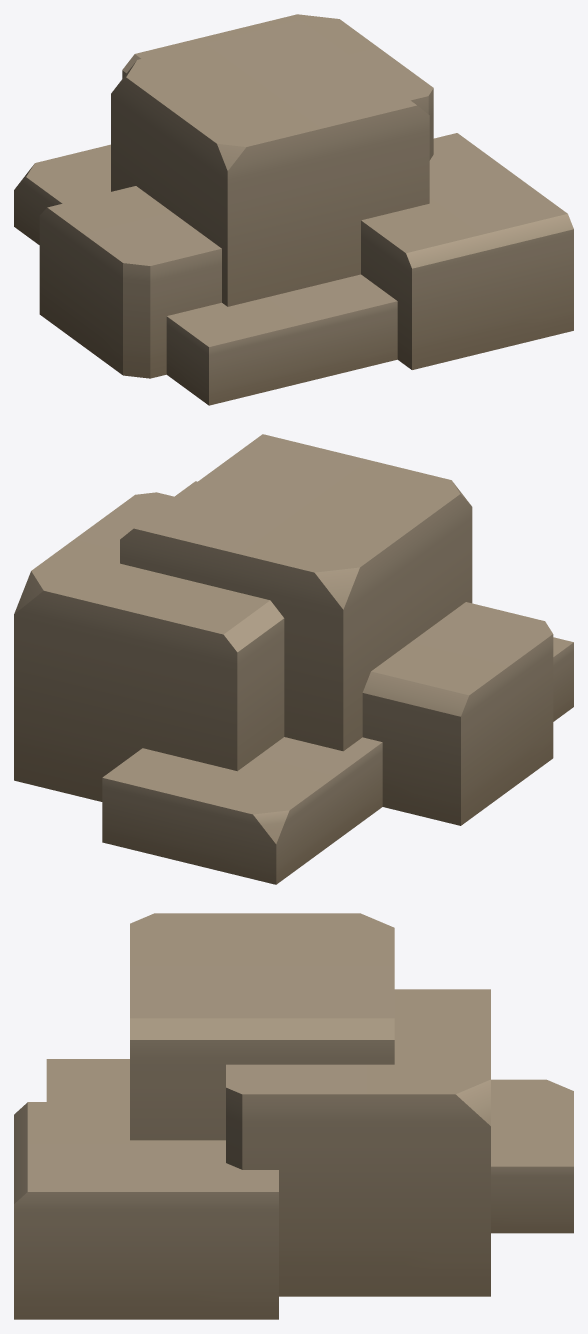
File: Rock_02.fbx
The picture shows the model from 3 angles, top to bottom: view 1: azimuth 30°, elevation 25°; view 2: azimuth 150°, elevation 25°; view 3: azimuth 270°, elevation 25°; orthographic projection. The views are drawn at different scales.
Parts seen in each view (by area): view 1: Rock2; view 2: Rock2; view 3: Rock2.
Boxes of the visible parts, x1,y1,x2,y2 form: Rock2: (14, 14, 573, 405); Rock2: (14, 434, 573, 884); Rock2: (14, 913, 573, 1319).
Bounding box in the file's own units: 75.66 × 40.24 × 84.13.
